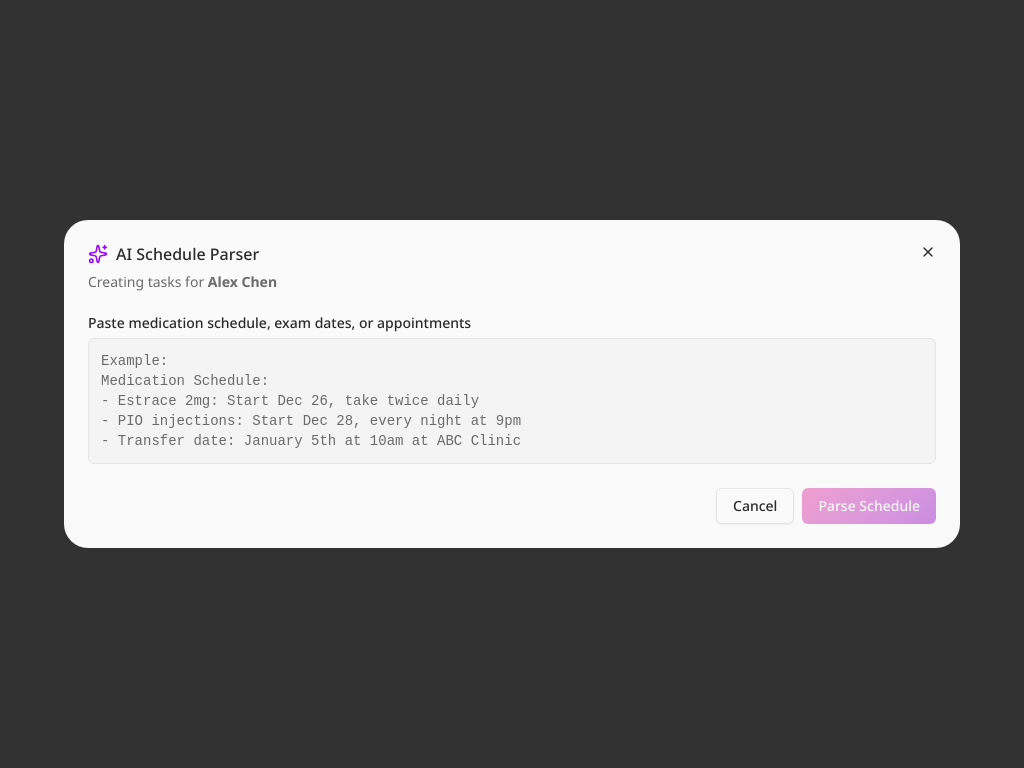
Scenario: ScheduleParserDialog › creates selected parsed tasks and shows the success state
Step 1. Replace the text in the text box with "PIO nightly at 9pm on Feb 20" → [512, 401], box [88,338,936,464]
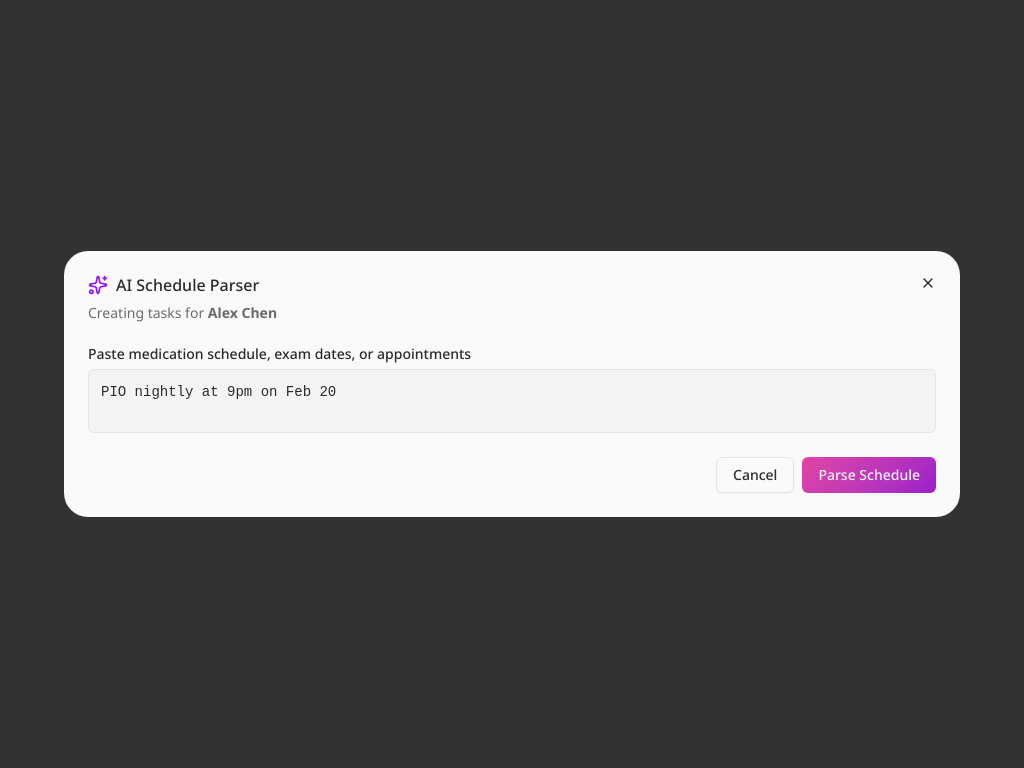
Step 2. Click the button "Parse Schedule" → [869, 475], box [802,457,936,493]
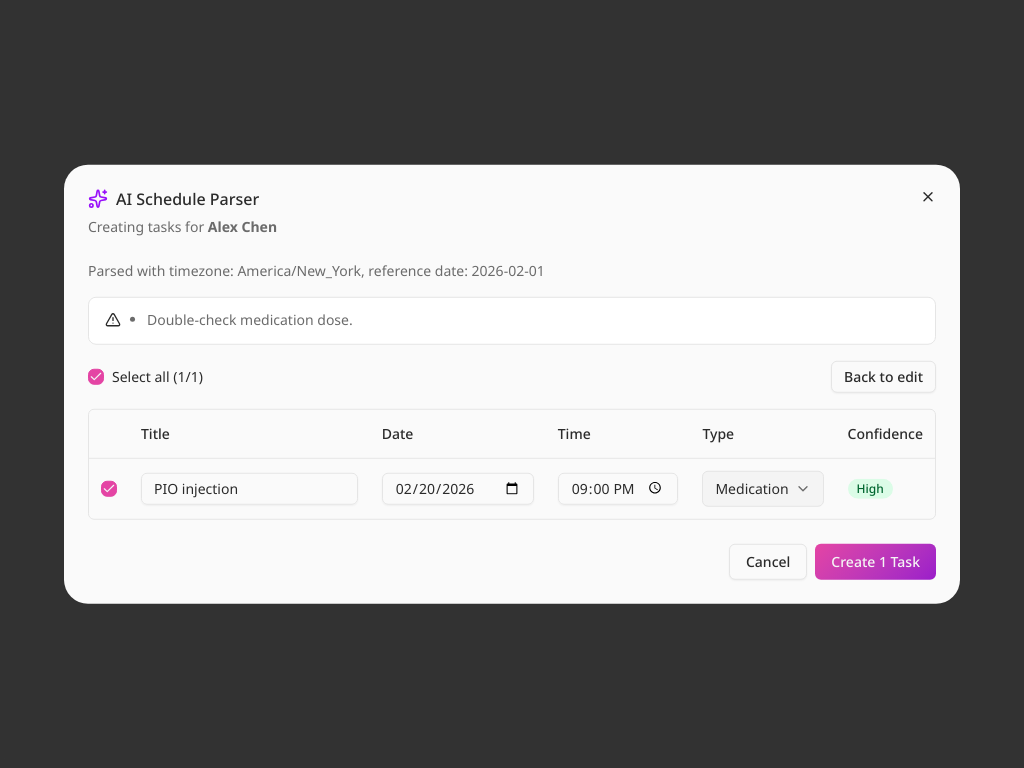
Expected: the field showing "PIO injection" is shown, [141,472,358,504]
Expected: the list item "Double-check medication dose." is shown, [147,310,353,329]
Expected: the text "Parsed with timezone: America/New_York" is shown, [88,261,545,280]
Step 3. Click the button "Create 1 Task" → [876, 561], box [815,543,936,579]
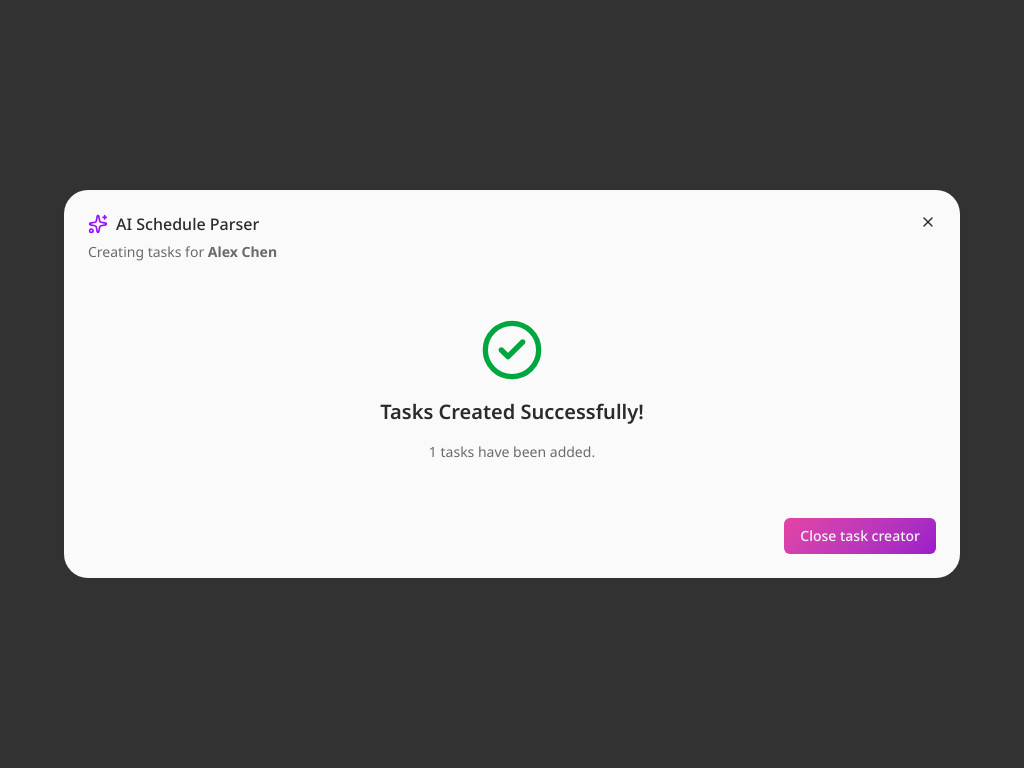
Expected: the heading "Tasks Created Successfully!" is shown, [380,398,644,426]
